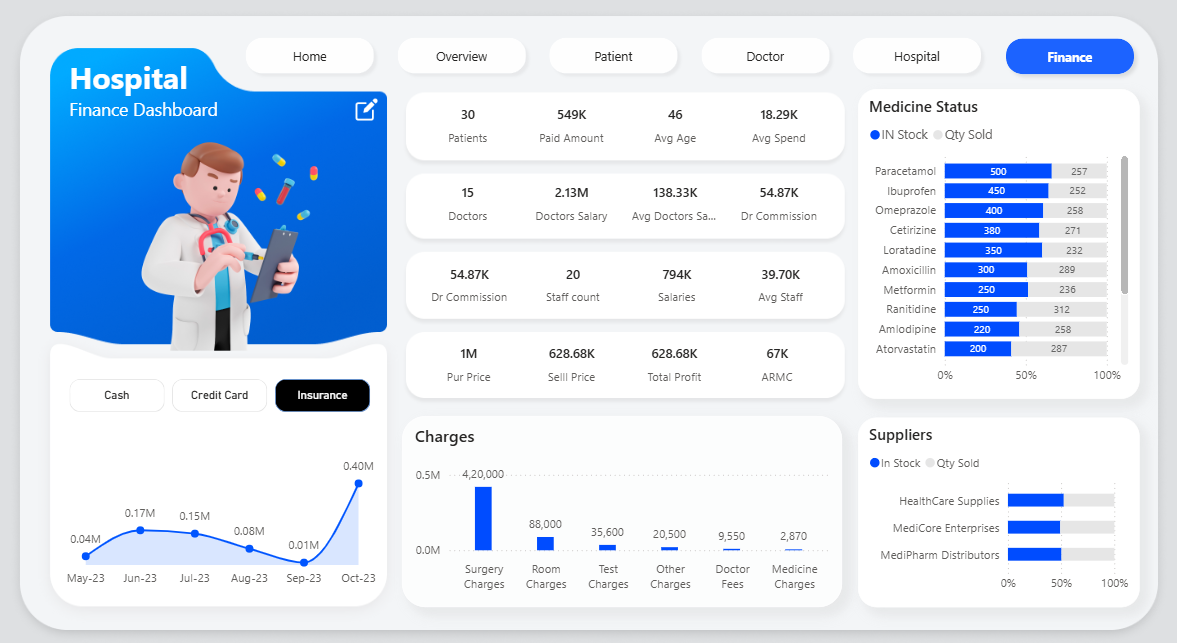

This screenshot's page, from the dashboard's own definition file:
{"tool":"powerbi","page":{"name":"Finance","canvas":[1280,720],"ordinal":5},"visuals":[{"type":"textbox","box":[84.9,71.9,196,78.4],"z":0},{"type":"advancedSlicerVisual","fields":{"Values":["Hospital_Bills.payment_method"]},"box":[84.5,414.3,329.8,45.2],"z":1000},{"type":"hundredPercentStackedBarChart","title":"Medicine Status","fields":{"Category":["Medical_Stock.name"],"Y":["Sum(Medical_Stock.stock_qty)","Sum(Medicine_Sales.qty)"]},"box":[926.2,110.7,298.8,328.6],"z":2000},{"type":"clusteredColumnChart","title":"Charges","fields":{"Category":["Hospital_Bills.Charges Type"],"Y":["Sum(Hospital_Bills.Value)"]},"box":[442.9,458.3,466.7,202.4],"z":3000},{"type":"areaChart","title":"Earring by Monthyr","fields":{"Category":["Calender.Month-yr"],"Y":["Hospital_Bills.Paid_Amount"]},"box":[76.2,472.6,347.6,175],"z":4000},{"type":"hundredPercentStackedBarChart","title":"Suppliers","fields":{"Category":["Supplier.name"],"Y":["Sum(Medical_Stock.stock_qty)","Sum(Medicine_Sales.qty)"]},"box":[926.2,459.5,298.8,201.2],"z":5000},{"type":"pageNavigator","box":[269,48.8,959.5,53.6],"z":6000},{"type":"cardVisual","fields":{"Data":["Medical_Stock.Total_Stock_Selling_Price","Medical_Stock.Total_Stock_Purchasing_Price","Medical_Stock.Total_Profit","Sum(Rooms.avg montly maintenance cost)"]},"box":[456.8,373.6,440.7,58.3],"z":7000},{"type":"cardVisual","fields":{"Data":["Count(Patient.patient_id)","Hospital_Bills.Paid_Amount","Patient.Avg_Age_Patient","Patient.Avg_Patinent_Spend"]},"box":[454.3,119.2,445.6,60.8],"z":8000},{"type":"cardVisual","fields":{"Data":["Count(Doctor.doctor_id)","Doctor.Doctors_Salary","Avg(Doctor.salary)","Hospital_Bills.Doctor_Commission"]},"box":[454.3,203.6,445.6,58.3],"z":9000},{"type":"cardVisual","fields":{"Data":["Hospital_Bills.Doctor_Commission","Count(Staff.staff_id)","Sum(Staff.salary)","Avg(Staff.salary)"]},"box":[456,290.5,444,56],"z":10000},{"type":"image","box":[102.4,150,321.4,244],"z":11000},{"type":"image","box":[384.2,116.5,39.6,33.6],"z":12000}]}

Visuals, with their boxes in screenshot pixels (x1, y1, x2, y2), scaled from the page's 1280x720 canvas onto the 1177x643 screenshot:
textbox: region(78, 64, 258, 134)
advancedSlicerVisual - Hospital_Bills.payment_method: region(78, 370, 381, 410)
"Medicine Status" hundredPercentStackedBarChart: region(852, 99, 1126, 392)
"Charges" clusteredColumnChart: region(407, 409, 836, 590)
"Earring by Monthyr" areaChart: region(70, 422, 390, 578)
"Suppliers" hundredPercentStackedBarChart: region(852, 410, 1126, 590)
pageNavigator: region(247, 44, 1130, 91)
cardVisual - Medical_Stock.Total_Stock_Selling_Price x Medical_Stock.Total_Stock_Purchasing_Price: region(420, 334, 825, 386)
cardVisual - Count(Patient.patient_id) x Hospital_Bills.Paid_Amount: region(418, 106, 827, 161)
cardVisual - Count(Doctor.doctor_id) x Doctor.Doctors_Salary: region(418, 182, 827, 234)
cardVisual - Hospital_Bills.Doctor_Commission x Count(Staff.staff_id): region(419, 259, 828, 309)
image: region(94, 134, 390, 352)
image: region(353, 104, 390, 134)
